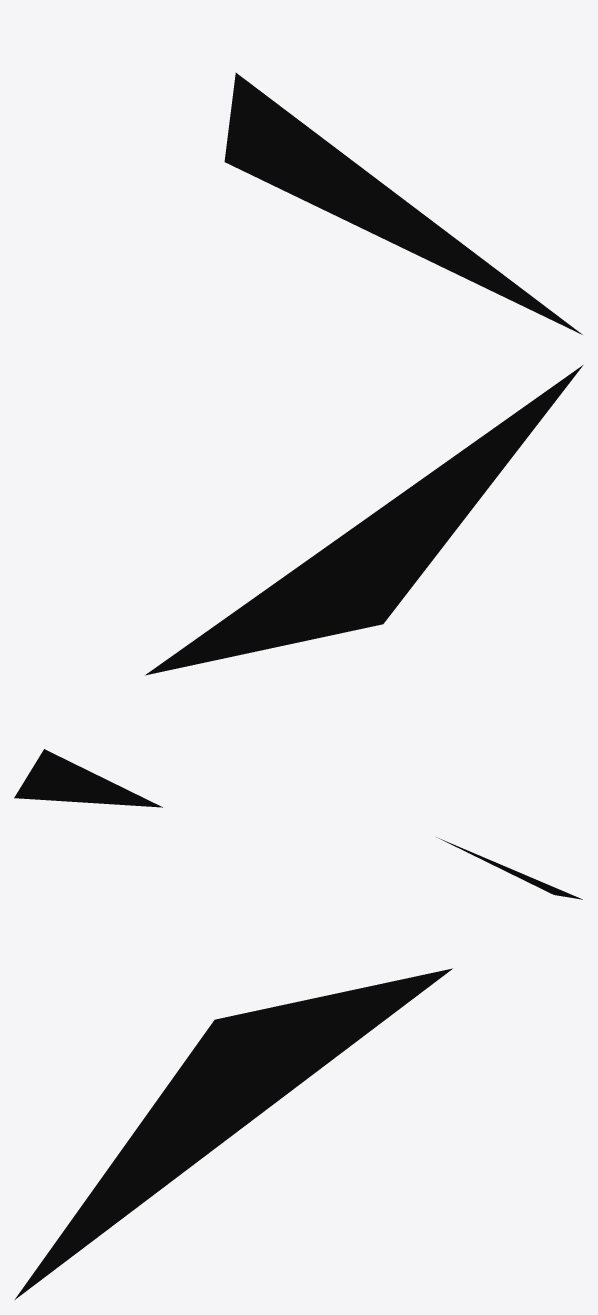
The picture shows the model from 3 angles, top to bottom: view 1: azimuth 30°, elevation 25°; view 2: azimuth 150°, elevation 25°; view 3: azimuth 330°, elevation 25°; orthographic projection. The views are drawn at different scales.
Bounding box in the file's own units: 0.0776 × 0.0134 × 0.5126.
1 material, 1 textured.
